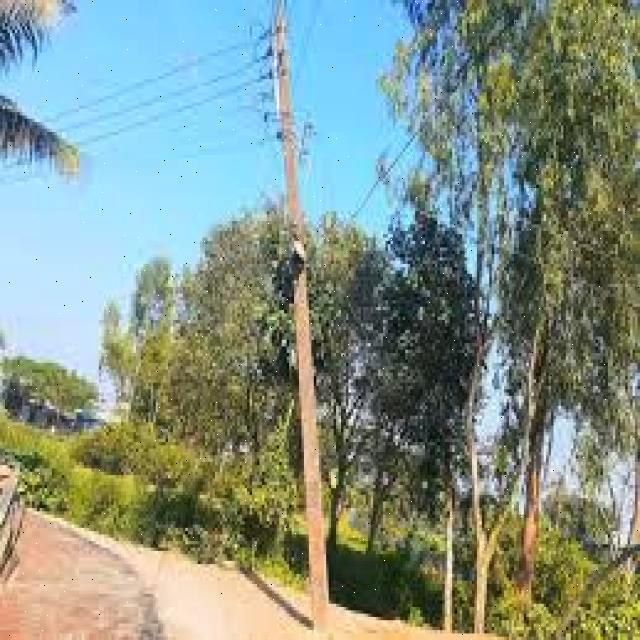critical vegetation: (240, 128, 382, 374)
